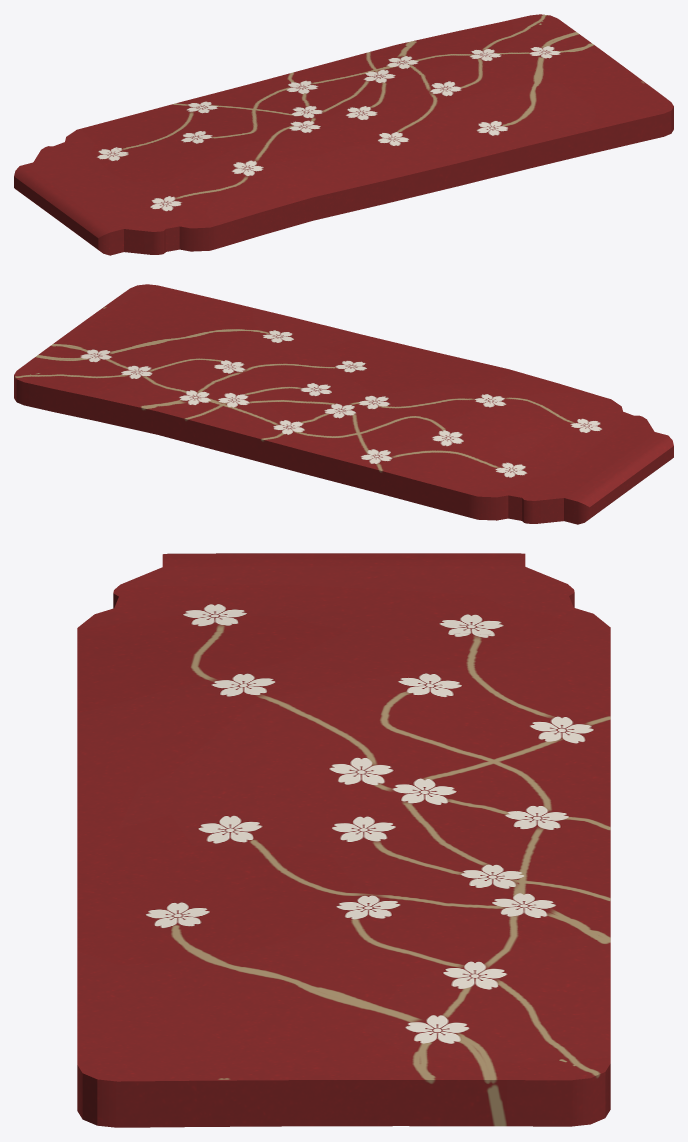
The model's file is envelope.glb.
The picture shows the model from 3 angles, top to bottom: view 1: azimuth 30°, elevation 25°; view 2: azimuth 150°, elevation 25°; view 3: azimuth 270°, elevation 25°; orthographic projection. The views are drawn at different scales.
Visible parts, largest first — view 1: RedEnvelope; view 2: RedEnvelope; view 3: RedEnvelope.
Boxes of the visible parts, x1,y1,x2,y2 form: RedEnvelope: (14, 14, 673, 255); RedEnvelope: (14, 284, 673, 524); RedEnvelope: (77, 553, 610, 1127).
Size of the model in its own units: 0.0484 by 0.00306 by 0.02.
1 material, 1 textured.
